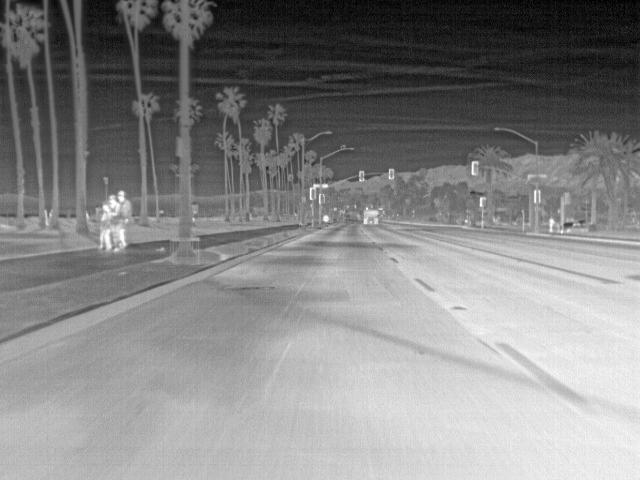car: (365, 207, 382, 225)
person: (97, 192, 117, 252), (116, 188, 132, 253), (546, 218, 558, 234)
